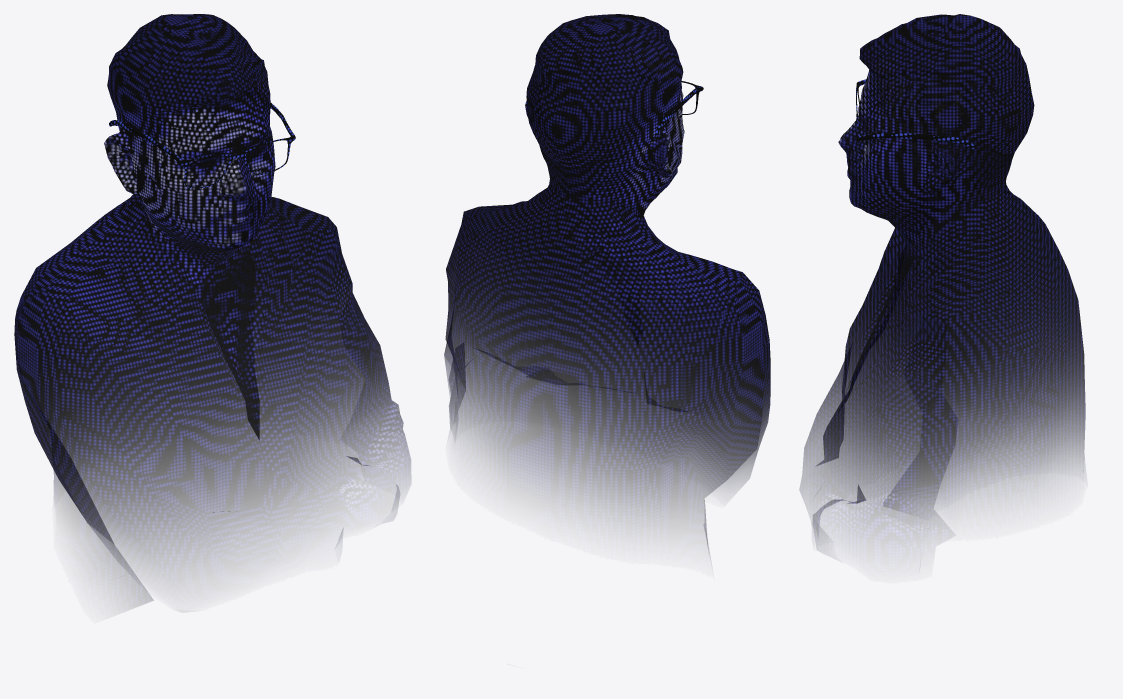
The model's file is Byron_V1_Hologram.glb.
3 views of the same model, side by side, from view 1: azimuth 30°, elevation 25°; view 2: azimuth 150°, elevation 25°; view 3: azimuth 270°, elevation 25° (orthographic). The views are drawn at different scales.
Parts seen in each view (by area): view 1: Retopo; view 2: Retopo; view 3: Retopo.
Boxes of the visible parts, x1,y1,x2,y2 form: Retopo: (14,14,410,607); Retopo: (444,14,770,558); Retopo: (799,14,1085,550).
Size of the model in its own units: 1.76 by 3.08 by 1.42.
Materials: 3 (3 with a texture image).
